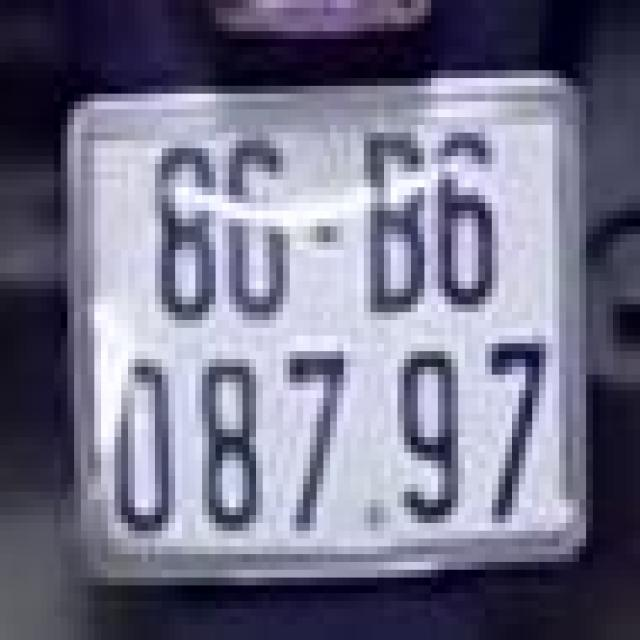0: (101, 336, 189, 546)
6: (428, 109, 522, 328), (226, 132, 313, 336)
7: (478, 324, 559, 527), (276, 328, 344, 531)
8: (142, 136, 229, 340), (185, 348, 266, 542)
9: (387, 347, 475, 527)
B: (350, 121, 431, 324)
